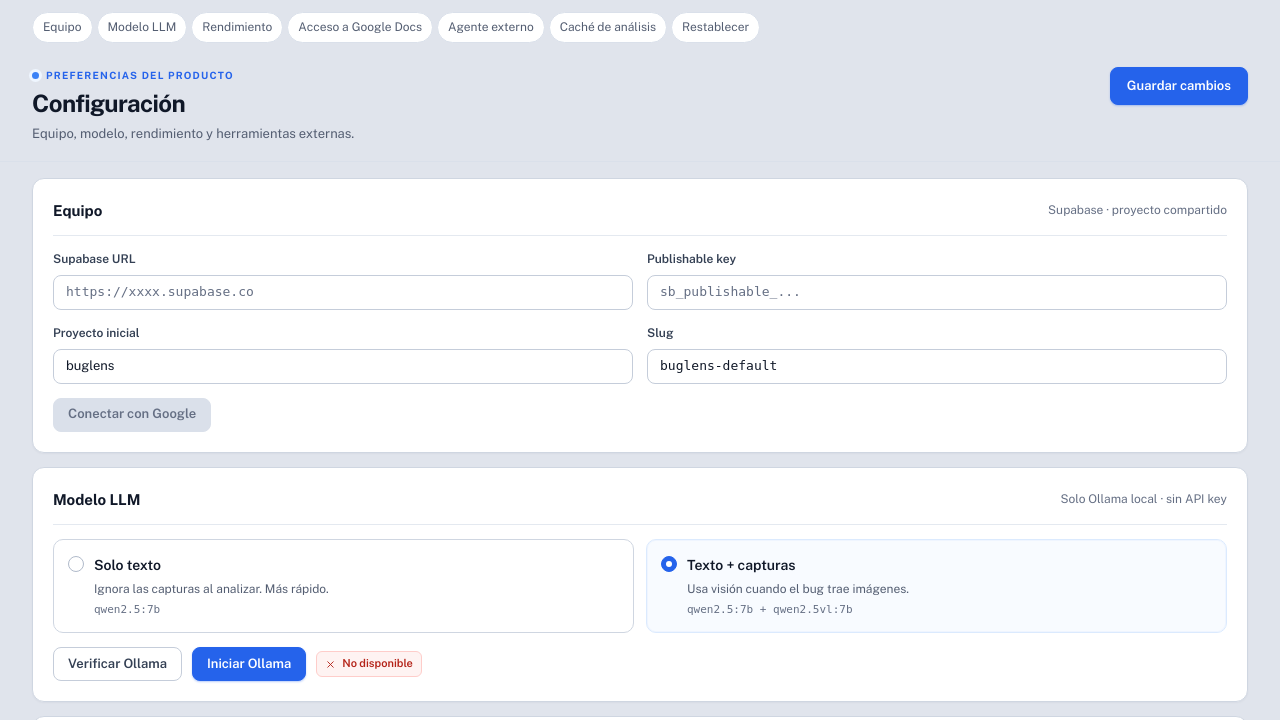
Test: Settings › actualiza el estado global de Ollama después de iniciarlo
Click the button "Iniciar Ollama" at (249, 664), box [192,647,306,681]
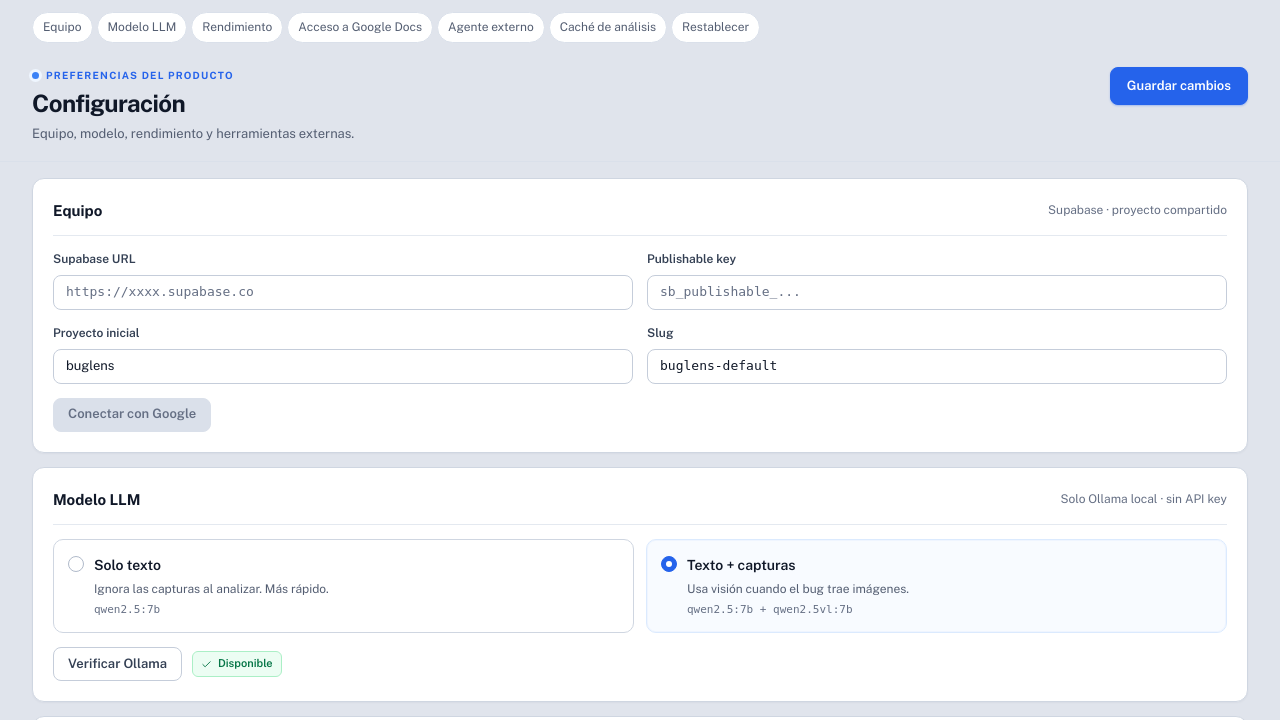
Expected: the text "Disponible" is shown, [192,651,282,677]
Result: the button "Iniciar Ollama" is gone
